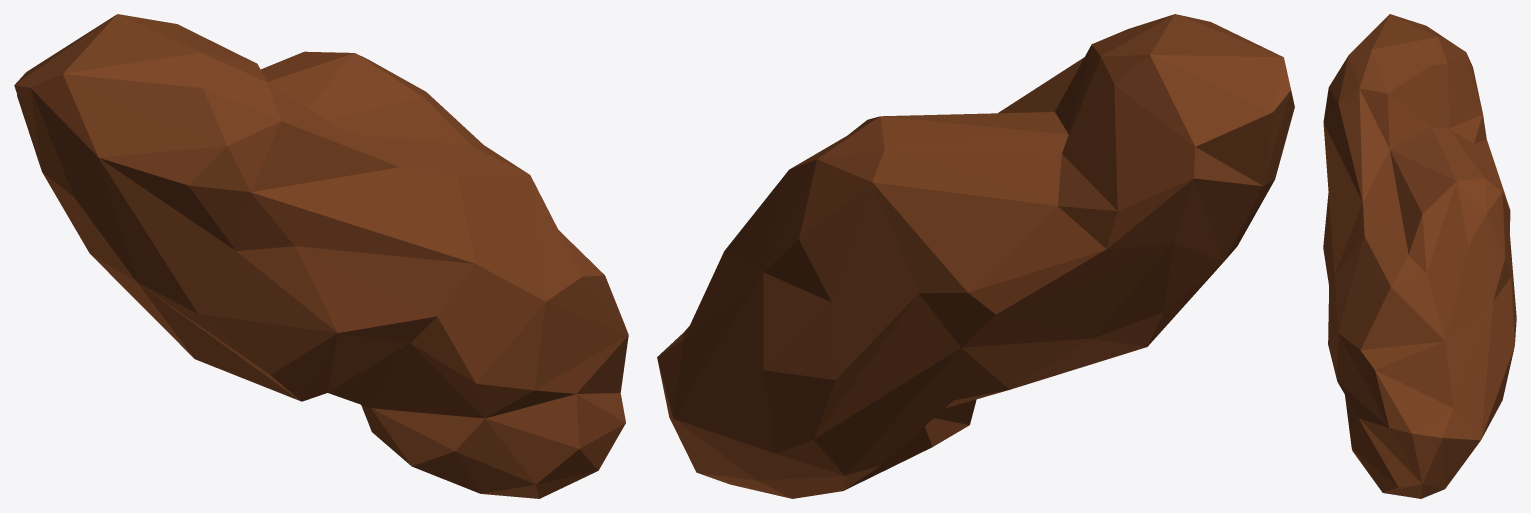
File: Asteroide11.fbx
The picture shows the model from 3 angles, left to right: view 1: azimuth 30°, elevation 25°; view 2: azimuth 150°, elevation 25°; view 3: azimuth 270°, elevation 25°; orthographic projection. The views are drawn at different scales.
Visible parts, largest first — view 1: Asteroide11; view 2: Asteroide11; view 3: Asteroide11.
Part boxes in pixels (x1,y1,x2,y2): Asteroide11: [14, 14, 628, 498]; Asteroide11: [657, 14, 1294, 498]; Asteroide11: [1323, 14, 1516, 498].
Size of the model in its own units: 6.18 by 5.34 by 2.79.
